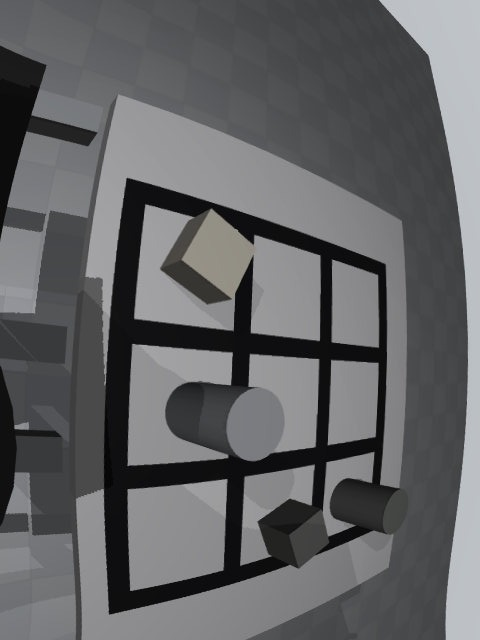can: (165, 382, 285, 462)
cube: (257, 498, 330, 569)
cylinder: (329, 478, 409, 535)
foam: (159, 209, 257, 305)
